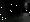person: (23, 5, 30, 17)
